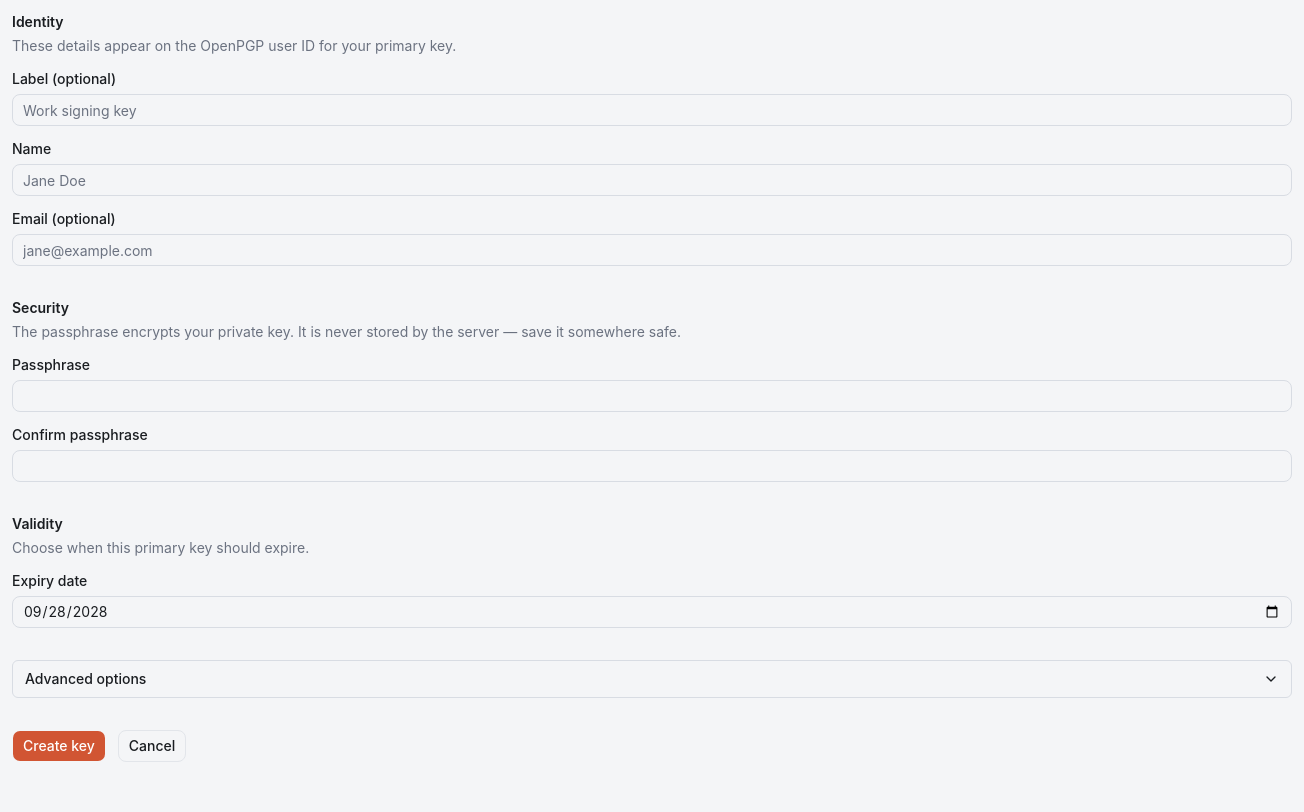
Test: CreateKeyForm › shows algorithm select in advanced options
Click the button "Advanced options" at (86, 678), box [12,660,1292,698]
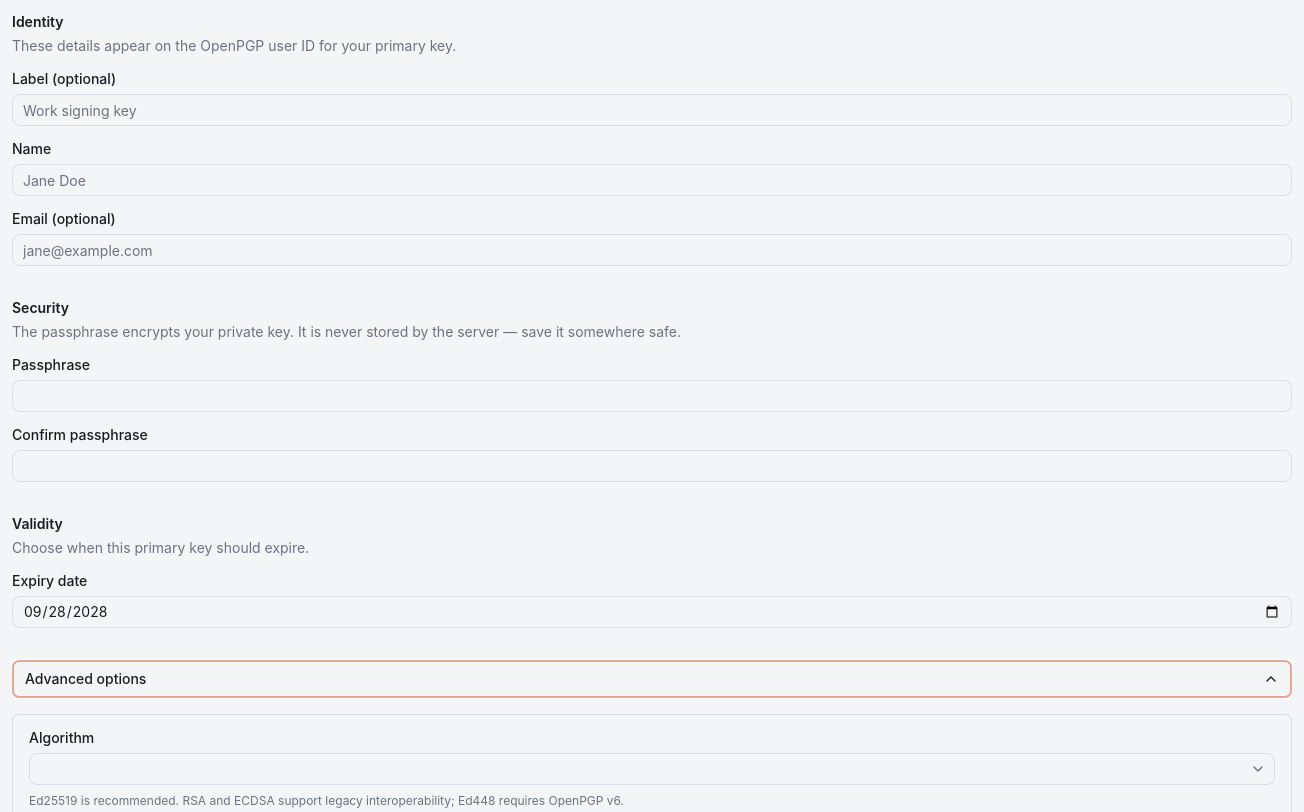
Now the dropdown named "algorithm" is shown, box [29,753,1275,785]
Now the text "Ed25519 is recommended" is shown, box [29,793,624,808]
